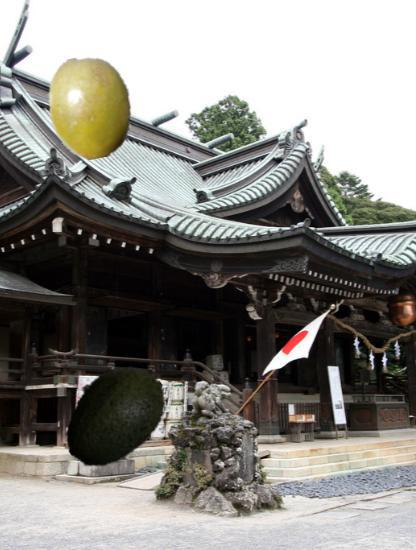Avocado: (56, 358, 172, 474)
Maracuja: (39, 56, 142, 159)
